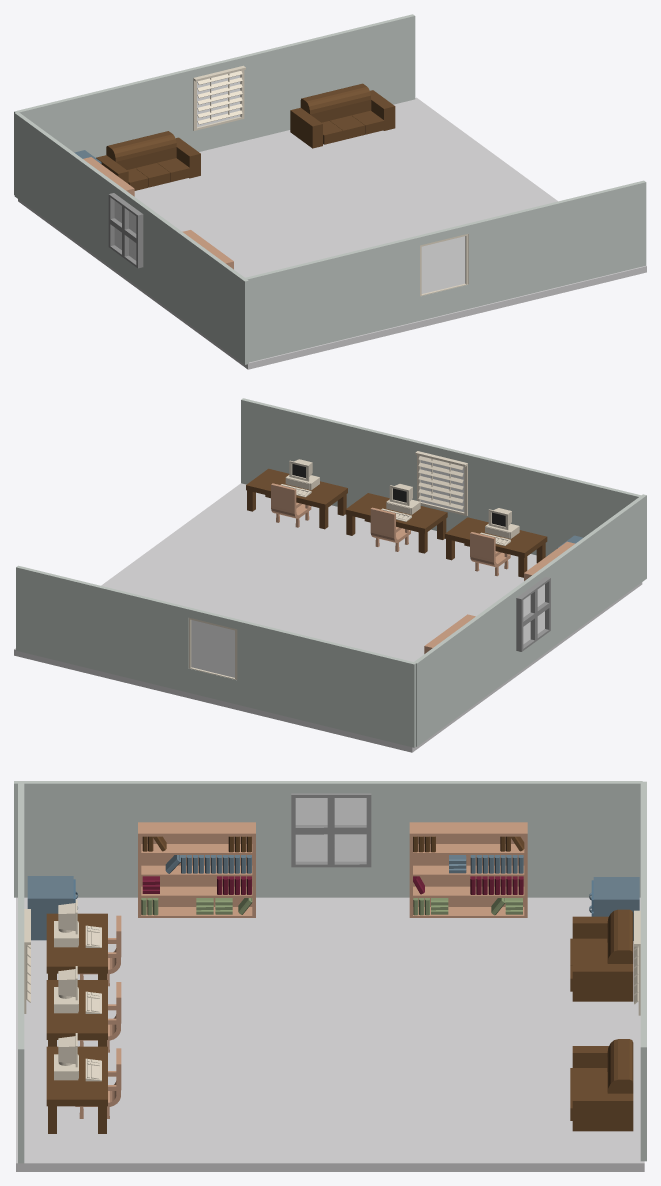
The model's file is Level1.glb.
The picture shows the model from 3 angles, top to bottom: view 1: azimuth 30°, elevation 25°; view 2: azimuth 150°, elevation 25°; view 3: azimuth 270°, elevation 25°; orthographic projection. The views are drawn at different scales.
Visible parts, largest first — view 1: Cube.004, Cube.003, Cube.009, Cube.005, Couch.001, Couch, Window Cross.004, Window Cross.003, Window Cross.005; view 2: Cube.004, Cube.009, Cube.003, Cube.005, Window Cross.003, Window Cross.004, Table.001, Table, Table.002, Window Cross.005, Chair1.001, Chair1.002 (+4 smaller); view 3: Cube.004, Cube.005, Shelf.002, Shelf, Window Cross.005, Couch.001, Couch, Table, Table.002, Table.001, Cube.003, Cube.009 (+10 smaller).
Part boxes in pixels (bbox=[...]): Cube.004: bbox=[18, 97, 646, 369]; Cube.003: bbox=[245, 180, 646, 362]; Cube.009: bbox=[14, 14, 415, 194]; Cube.005: bbox=[14, 112, 248, 364]; Couch.001: bbox=[290, 83, 395, 148]; Couch: bbox=[96, 131, 200, 190]; Window Cross.004: bbox=[193, 65, 245, 130]; Window Cross.003: bbox=[420, 233, 468, 296]; Window Cross.005: bbox=[108, 193, 143, 268]; Cube.004: bbox=[14, 483, 642, 752]; Cube.009: bbox=[16, 565, 415, 747]; Cube.003: bbox=[241, 398, 640, 556]; Cube.005: bbox=[414, 494, 646, 746]; Window Cross.003: bbox=[415, 451, 467, 515]; Window Cross.004: bbox=[188, 617, 237, 679]; Table.001: bbox=[345, 493, 447, 553]; Table: bbox=[246, 468, 347, 529]; Table.002: bbox=[445, 517, 547, 577]; Window Cross.005: bbox=[516, 576, 550, 651]; Chair1.001: bbox=[370, 507, 410, 551]; Chair1.002: bbox=[470, 532, 510, 576]; Cube.004: bbox=[16, 897, 644, 1171]; Cube.005: bbox=[14, 781, 642, 897]; Shelf.002: bbox=[409, 822, 527, 917]; Shelf: bbox=[138, 822, 255, 917]; Window Cross.005: bbox=[291, 793, 371, 867]; Couch.001: bbox=[570, 1039, 633, 1131]; Couch: bbox=[570, 909, 633, 1001]; Table: bbox=[46, 1046, 107, 1133]; Table.002: bbox=[46, 913, 107, 979]; Table.001: bbox=[46, 980, 107, 1046]; Cube.003: bbox=[18, 783, 24, 1163]; Cube.009: bbox=[640, 781, 646, 1161].
Size of the model in its own units: 40.94 by 8.6 by 40.28.
